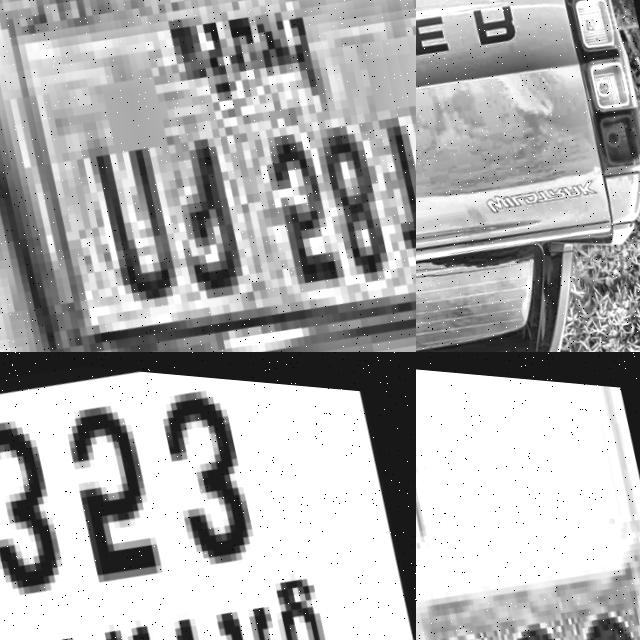license-plate: (0, 0, 416, 352), (0, 352, 416, 640), (416, 352, 640, 640)
